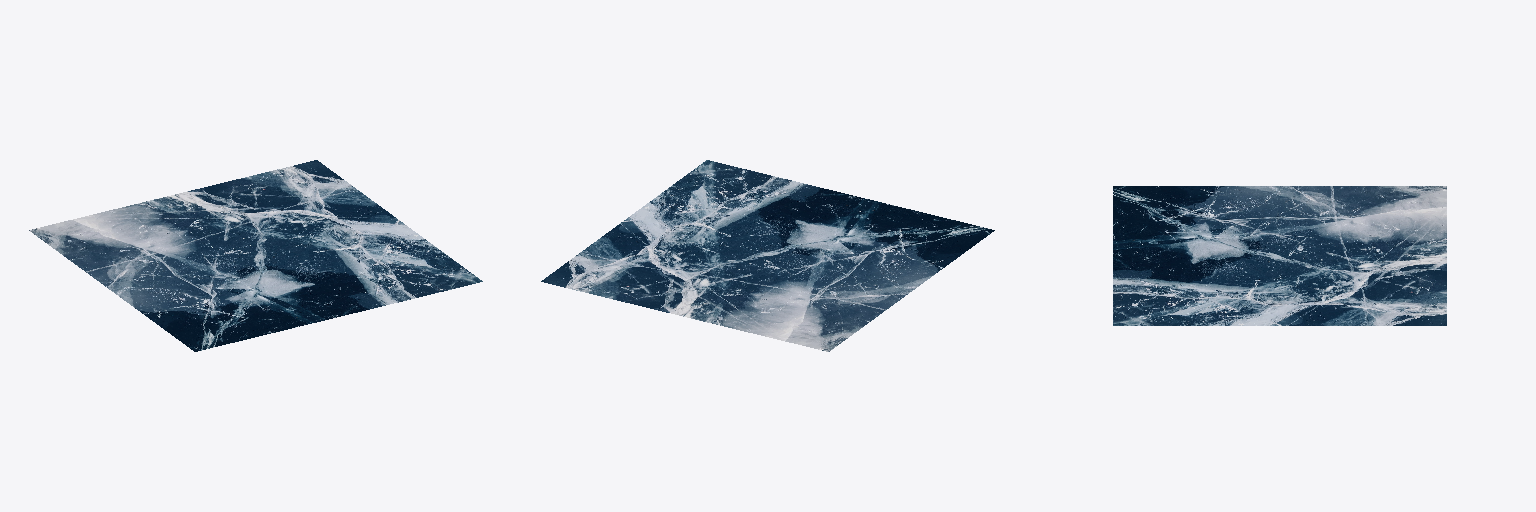
The picture shows the model from 3 angles: view 1: azimuth 30°, elevation 25°; view 2: azimuth 150°, elevation 25°; view 3: azimuth 270°, elevation 25°; orthographic projection.
Parts seen in each view (by area): view 1: Plane; view 2: Plane; view 3: Plane.
Boxes of the visible parts, x1,y1,x2,y2 form: Plane: [29, 160, 482, 351]; Plane: [541, 160, 994, 351]; Plane: [1113, 186, 1446, 325].
Size of the model in its own units: 2 by 0 by 2.
Materials: 1 (1 with a texture image).